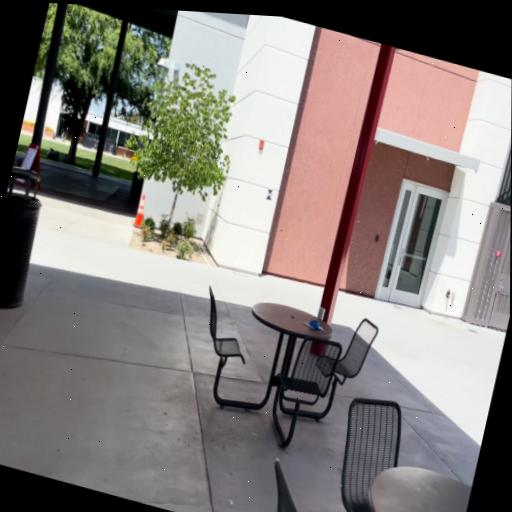target9: (265, 189, 273, 201)
